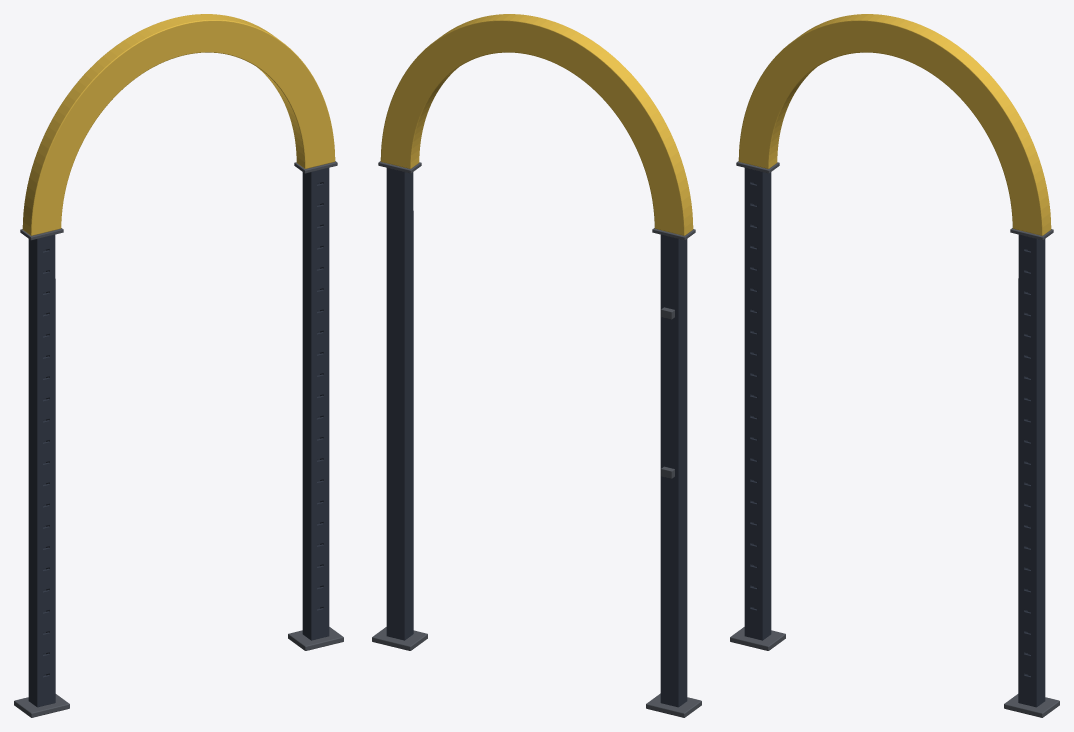
The model's file is department-arch.glb.
3 renders of one model, left to right at view 1: azimuth 30°, elevation 25°; view 2: azimuth 150°, elevation 25°; view 3: azimuth 330°, elevation 25°, orthographic.
Visible parts, largest first — view 1: Continuous broad arch, Left slotted upright, Right interpreted upright, Left slotted upright footplate, Right interpreted upright footplate; view 2: Continuous broad arch, Right interpreted upright, Left slotted upright, Left slotted upright footplate, Right interpreted upright footplate; view 3: Continuous broad arch, Right interpreted upright, Left slotted upright, Right interpreted upright footplate, Left slotted upright footplate.
Boxes of the visible parts, bbox=[...] form: Continuous broad arch: bbox=[22, 14, 335, 235]; Left slotted upright: bbox=[28, 234, 55, 707]; Right interpreted upright: bbox=[302, 168, 329, 640]; Left slotted upright footplate: bbox=[14, 694, 69, 717]; Right interpreted upright footplate: bbox=[288, 627, 343, 650]; Continuous broad arch: bbox=[380, 14, 693, 235]; Right interpreted upright: bbox=[386, 168, 413, 640]; Left slotted upright: bbox=[660, 234, 687, 707]; Left slotted upright footplate: bbox=[646, 693, 701, 717]; Right interpreted upright footplate: bbox=[372, 627, 427, 650]; Continuous broad arch: bbox=[738, 14, 1051, 235]; Right interpreted upright: bbox=[1018, 234, 1045, 707]; Left slotted upright: bbox=[744, 168, 771, 640]; Right interpreted upright footplate: bbox=[1004, 694, 1059, 717]; Left slotted upright footplate: bbox=[730, 627, 785, 650].
Size of the model in its own units: 5.14 by 10.25 by 0.5.
